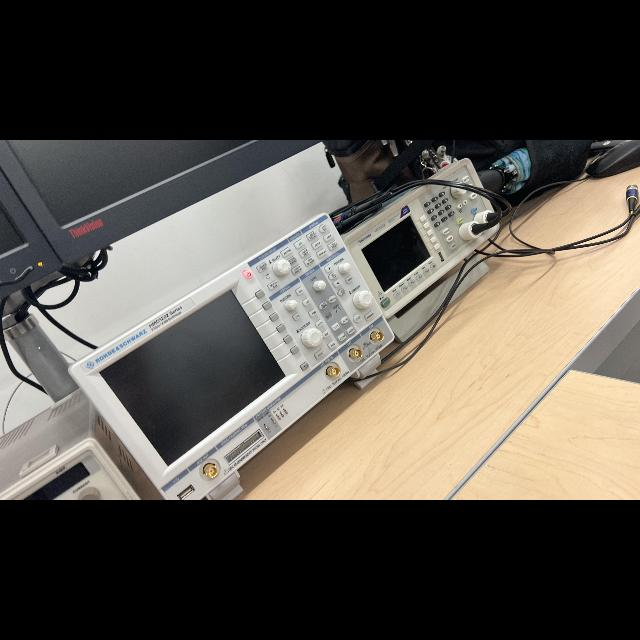Digital-Oscilloscope: (70, 214, 393, 500)
